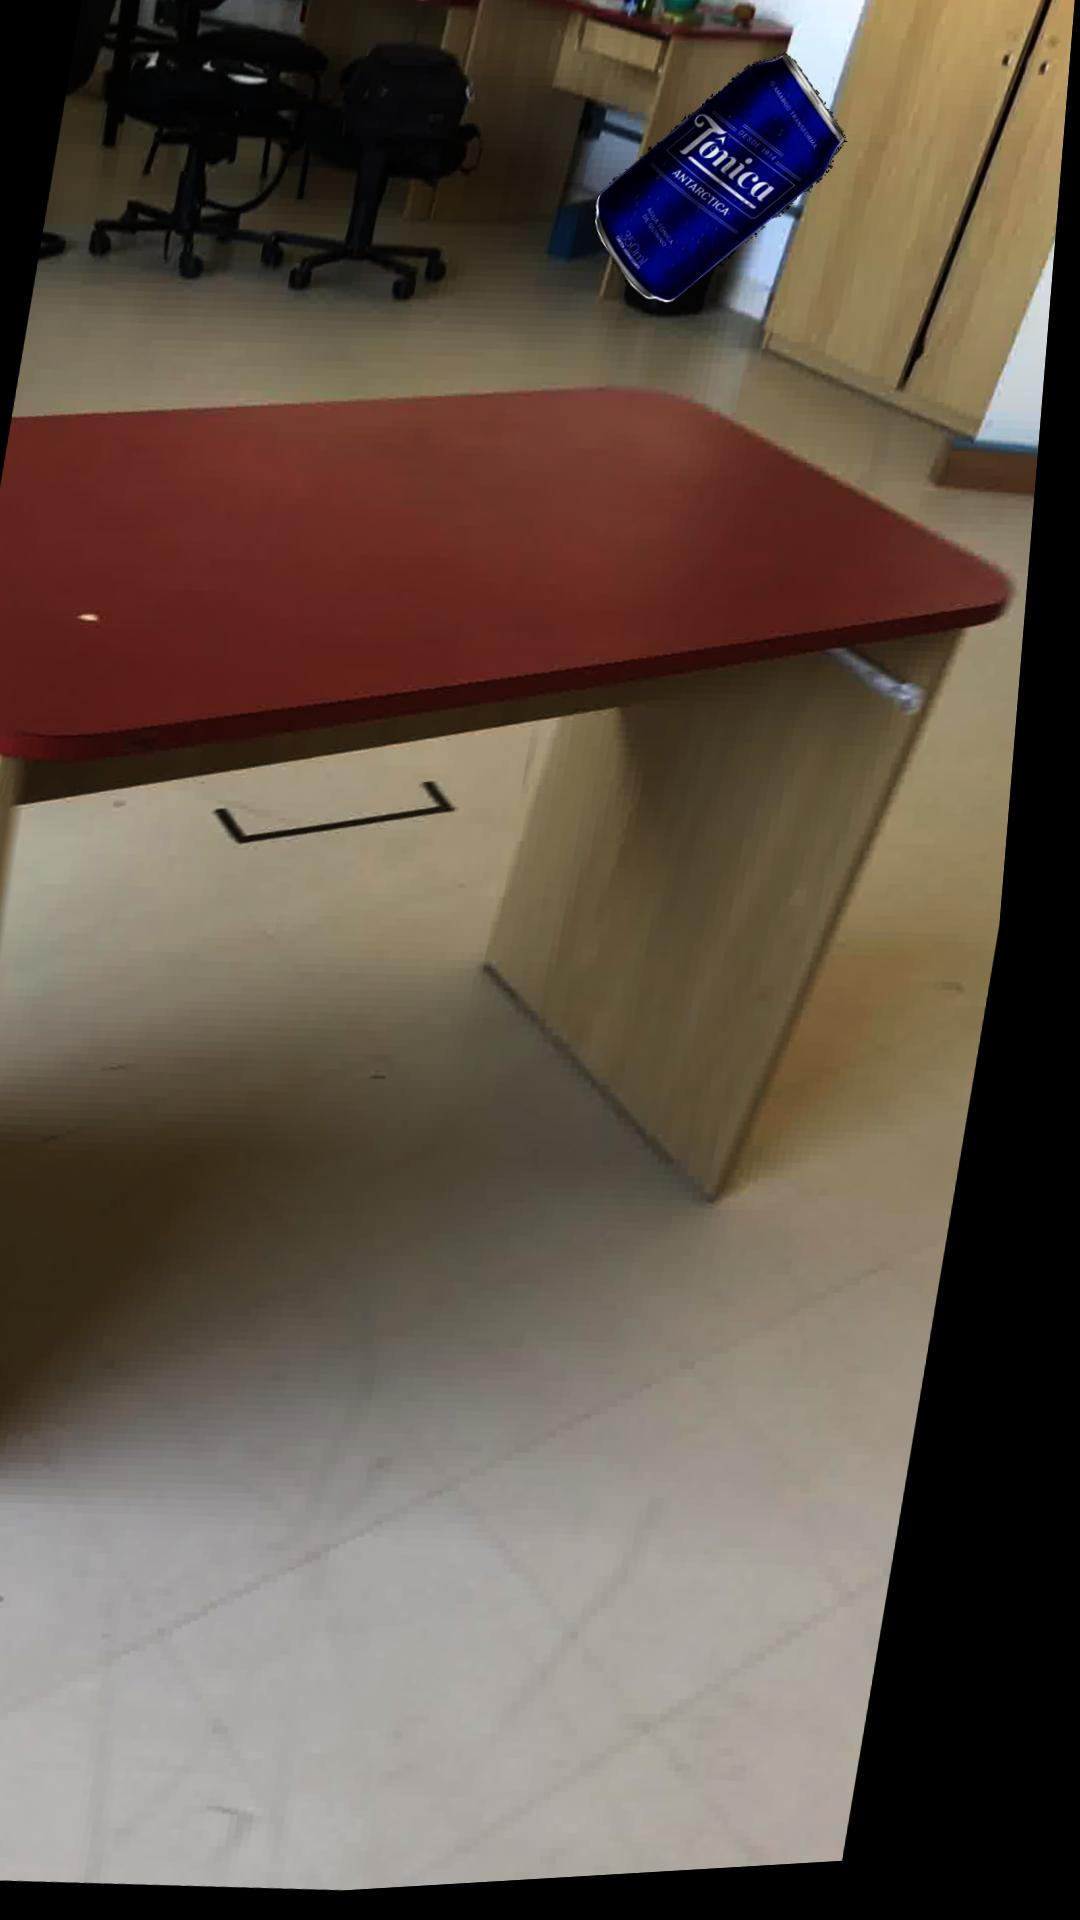tonic: (600, 62, 852, 310)
